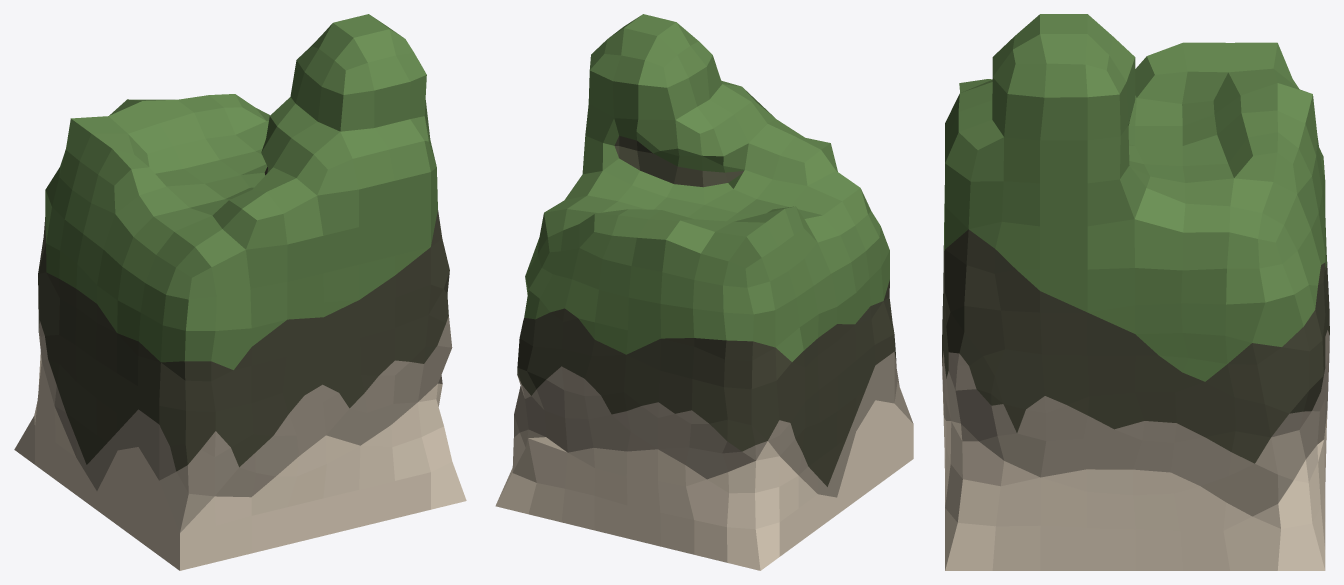
Rendered from Chinese Mountains1.fbx.
3 renders of one model, left to right at view 1: azimuth 30°, elevation 25°; view 2: azimuth 150°, elevation 25°; view 3: azimuth 270°, elevation 25°, orthographic. The views are drawn at different scales.
Parts seen in each view (by area): view 1: Chinese Mountain3; view 2: Chinese Mountain3; view 3: Chinese Mountain3.
Part boxes in pixels (bbox=[...]): Chinese Mountain3: bbox=[14, 14, 466, 570]; Chinese Mountain3: bbox=[495, 14, 913, 570]; Chinese Mountain3: bbox=[942, 14, 1329, 570].
Size of the model in its own units: 2022 by 3000 by 2040.
